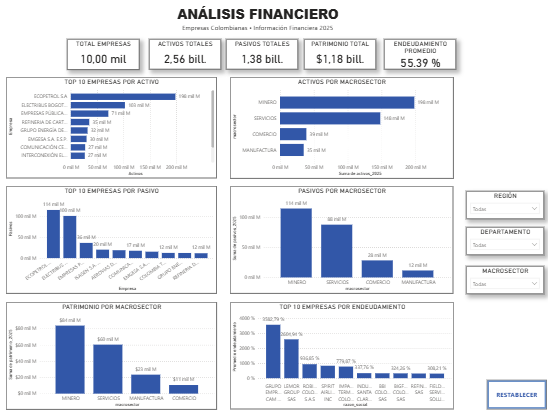

Layout of this report page (visuals, bound fields, positions):
{"tool":"powerbi","page":{"name":"Análisis financiero","canvas":[1400,1100],"ordinal":3},"visuals":[{"type":"card","title":"TOTAL EMPRESAS","fields":{"Values":["CountNonNull(vw_finanzas_empresa.razon_social)"]},"box":[172.6,100.9,180.7,76.5],"z":0},{"type":"clusteredBarChart","title":"TOP 10 EMPRESAS POR ACTIVO","fields":{"Category":["vw_finanzas_empresa.razon_social"],"Y":["Sum(vw_finanzas_empresa.activos_2025)"]},"box":[19.5,196.1,526.8,253.2],"z":1000},{"type":"clusteredColumnChart","title":"TOP 10 EMPRESAS POR PASIVO","fields":{"Category":["vw_finanzas_empresa.razon_social"],"Y":["Sum(vw_finanzas_empresa.pasivos_2025)"]},"box":[19.5,466.8,526.8,269.3],"z":2000},{"type":"clusteredBarChart","title":"ACTIVOS POR MACROSECTOR","fields":{"Category":["vw_finanzas_empresa.macrosector"],"Y":["Sum(vw_finanzas_empresa.activos_2025)"]},"box":[580.5,195.1,558.5,253.7],"z":3000},{"type":"slicer","title":"REGIÓN","fields":{"Values":["vw_finanzas_empresa.region"]},"box":[1169.2,480.5,195.1,70.1],"z":4000},{"type":"slicer","title":"DEPARTAMENTO","fields":{"Values":["vw_finanzas_empresa.departamento"]},"box":[1169.2,570.4,195.1,70.1],"z":5000},{"type":"slicer","title":"MACROSECTOR","fields":{"Values":["vw_finanzas_empresa.macrosector"]},"box":[1169.2,666.5,195.1,70.1],"z":6000},{"type":"textbox","box":[0,10.7,1298.8,76.2],"z":7000},{"type":"actionButton","title":"LIMPIAR FILTROS","box":[1223.6,952.7,149.1,72.7],"z":8000},{"type":"card","title":"ACTIVOS TOTALES","fields":{"Values":["Sum(vw_finanzas_empresa.activos_2025)"]},"box":[376.6,99.1,179.9,76.2],"z":9000},{"type":"card","title":"PASIVOS TOTALES","fields":{"Values":["Sum(vw_finanzas_empresa.pasivos_2025)"]},"box":[570.2,99.1,179.9,76.2],"z":10000},{"type":"card","title":"PATRIMONIO TOTAL","fields":{"Values":["Sum(vw_finanzas_empresa.patrimonio_2025)"]},"box":[763.8,99.1,179.9,76.2],"z":11000},{"type":"clusteredColumnChart","title":"PASIVOS POR MACROSECTOR","fields":{"Category":["vw_finanzas_empresa.macrosector"],"Y":["Sum(vw_finanzas_empresa.pasivos_2025)"]},"box":[581.2,467.2,558.4,268.6],"z":12000},{"type":"card","title":"ENDEUDAMIENTO PROMEDIO","fields":{"Values":["vw_finanzas_empresa.Promedio endeudamiento"]},"box":[965.9,100,180.5,75.6],"z":13001},{"type":"clusteredColumnChart","title":"PATRIMONIO POR MACROSECTOR","fields":{"Category":["vw_finanzas_empresa.macrosector"],"Y":["Sum(vw_finanzas_empresa.patrimonio_2025)"]},"box":[20,756.4,527.3,269.1],"z":13002},{"type":"clusteredColumnChart","title":"TOP 10 EMPRESAS POR ENDEUDAMIENTO","fields":{"Y":["vw_finanzas_empresa.Promedio endeudamiento"],"Category":["vw_finanzas_empresa.razon_social"]},"box":[580,757.5,560,267.5],"z":13003}]}

Visuals, with their boxes on the page's 1400x1100 design canvas (x1, y1, x2, y2). These are canvas units, not pixel positions in the 548x411 screenshot, which may show the page scaled, cropped or inside an application window:
"TOTAL EMPRESAS" card: box=[173, 101, 353, 177]
"TOP 10 EMPRESAS POR ACTIVO" clusteredBarChart: box=[20, 196, 546, 449]
"TOP 10 EMPRESAS POR PASIVO" clusteredColumnChart: box=[20, 467, 546, 736]
"ACTIVOS POR MACROSECTOR" clusteredBarChart: box=[580, 195, 1139, 449]
"REGIÓN" slicer: box=[1169, 480, 1364, 551]
"DEPARTAMENTO" slicer: box=[1169, 570, 1364, 640]
"MACROSECTOR" slicer: box=[1169, 666, 1364, 737]
textbox: box=[0, 11, 1299, 87]
"LIMPIAR FILTROS" actionButton: box=[1224, 953, 1373, 1025]
"ACTIVOS TOTALES" card: box=[377, 99, 556, 175]
"PASIVOS TOTALES" card: box=[570, 99, 750, 175]
"PATRIMONIO TOTAL" card: box=[764, 99, 944, 175]
"PASIVOS POR MACROSECTOR" clusteredColumnChart: box=[581, 467, 1140, 736]
"ENDEUDAMIENTO PROMEDIO" card: box=[966, 100, 1146, 176]
"PATRIMONIO POR MACROSECTOR" clusteredColumnChart: box=[20, 756, 547, 1026]
"TOP 10 EMPRESAS POR ENDEUDAMIENTO" clusteredColumnChart: box=[580, 758, 1140, 1025]
